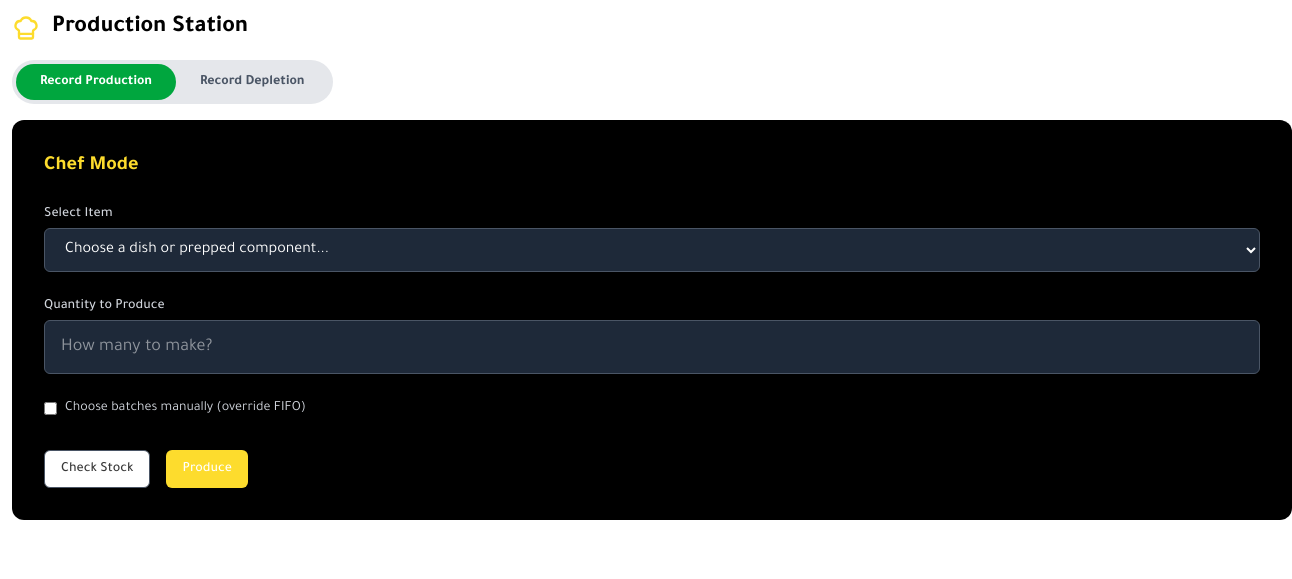
ProductionPage › disables submit and shows error when depleting more than available stock
Click the button "Record Depletion" at (252, 82), box [176, 64, 329, 100]
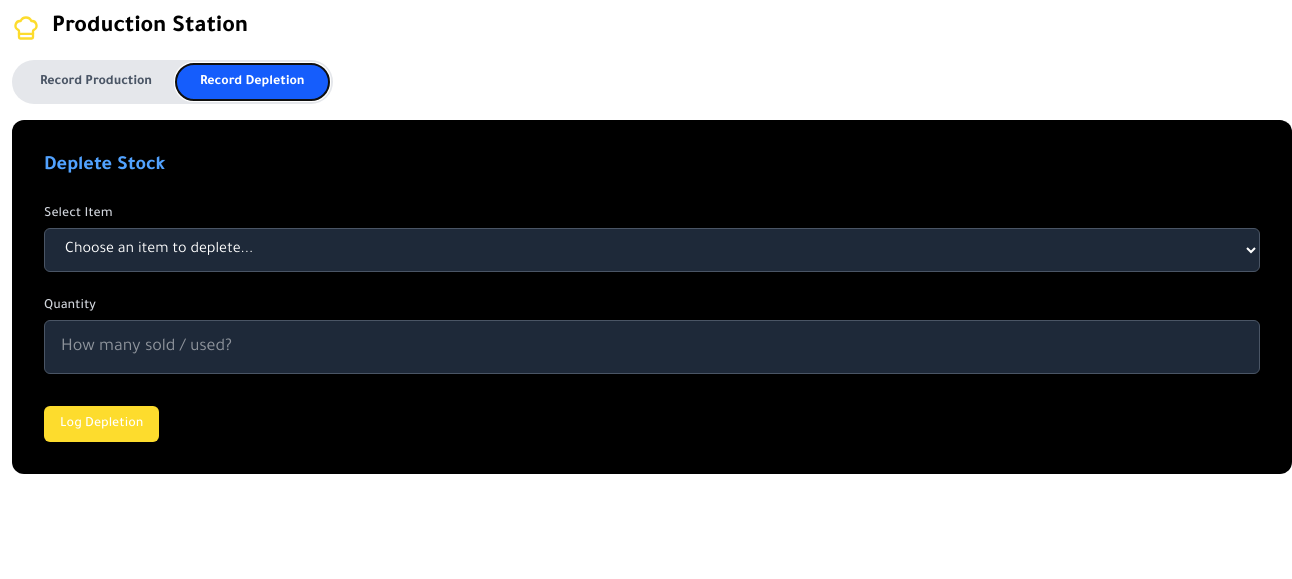
expect the heading "Deplete Stock" is shown: met, box [44, 156, 165, 176]
Note: Select an item that has 10 in stock
Select "Margherita Pizza (Dish)" in the dropdown labelled "Select Item" at (652, 250), box [44, 228, 1260, 272]
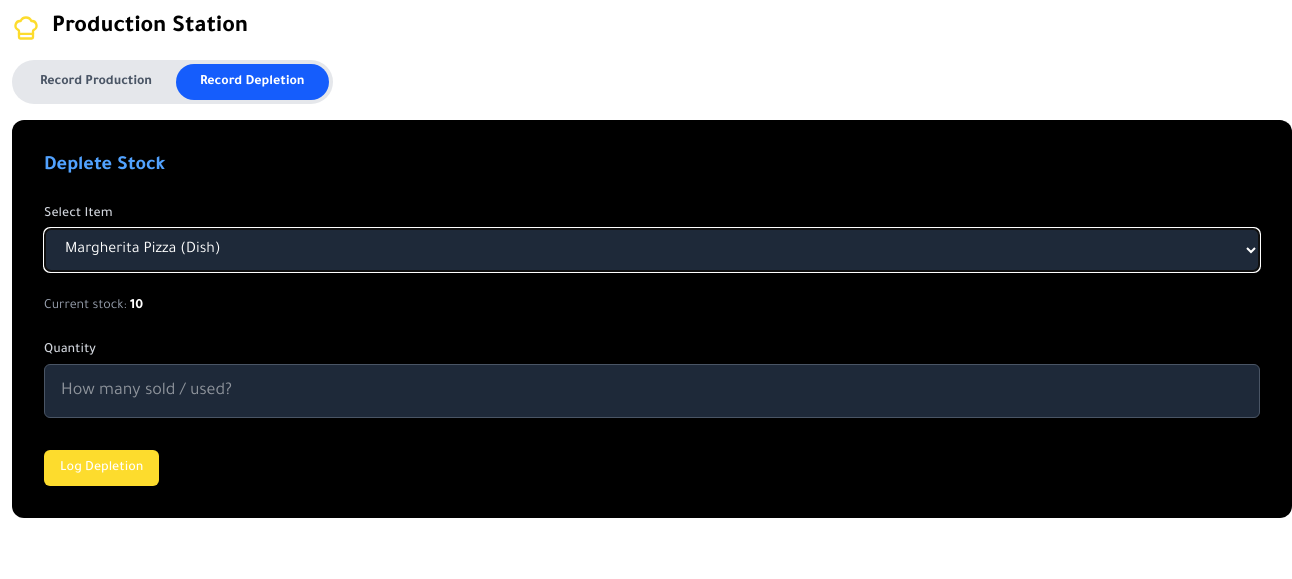
Note: Enter quantity of 50 (more than 10 available)
Type "50" into the number field labelled "Quantity" at (652, 391), box [44, 364, 1260, 418]
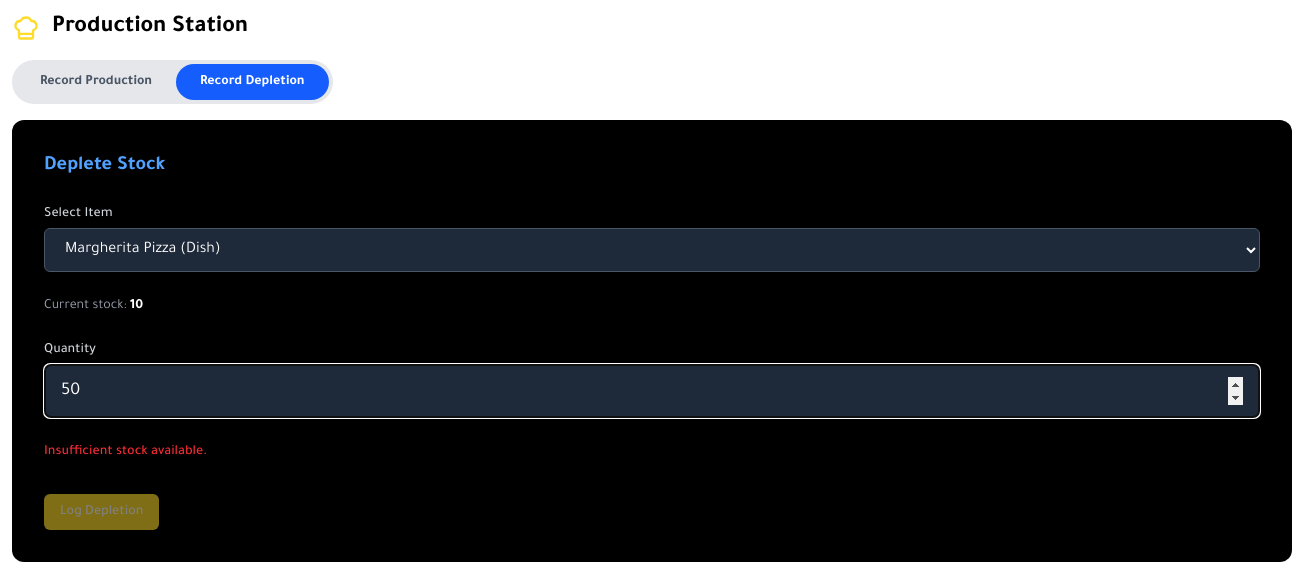
expect the text "Insufficient stock available." is shown: met, box [44, 445, 207, 459]
expect the button "Log Depletion" is disabled: met, box [44, 494, 159, 530]
